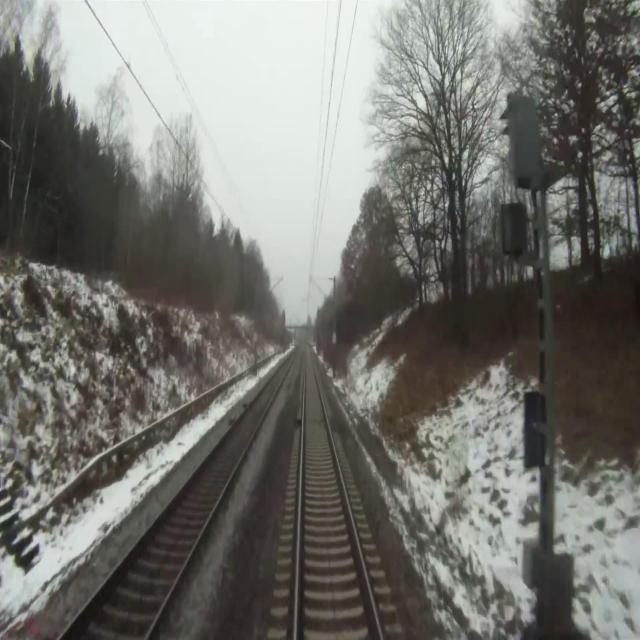rail-track: (62, 356, 292, 639), (298, 348, 379, 639)
